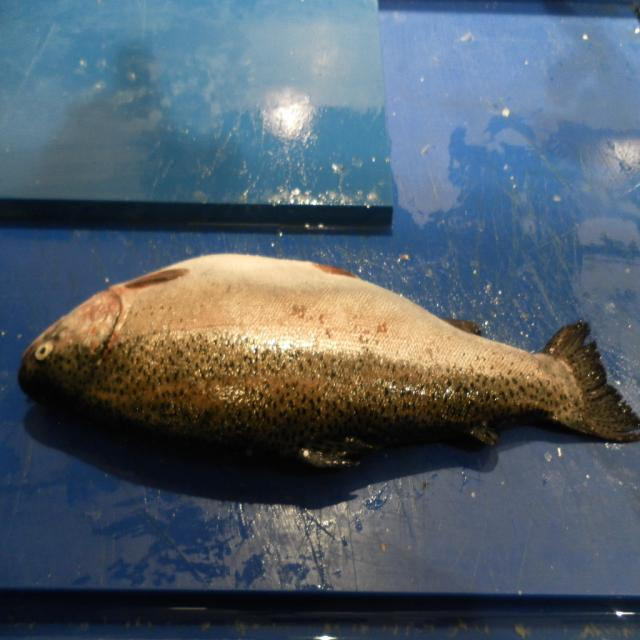Trout-alabalik-: (19, 255, 640, 467)
